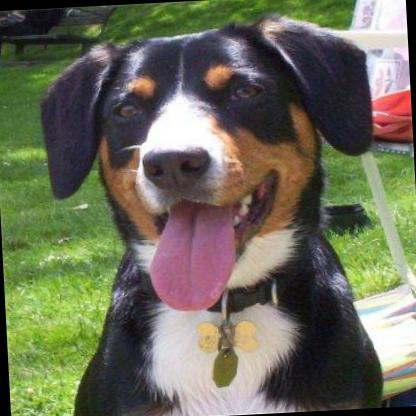EntleBucher: (31, 10, 385, 416)
